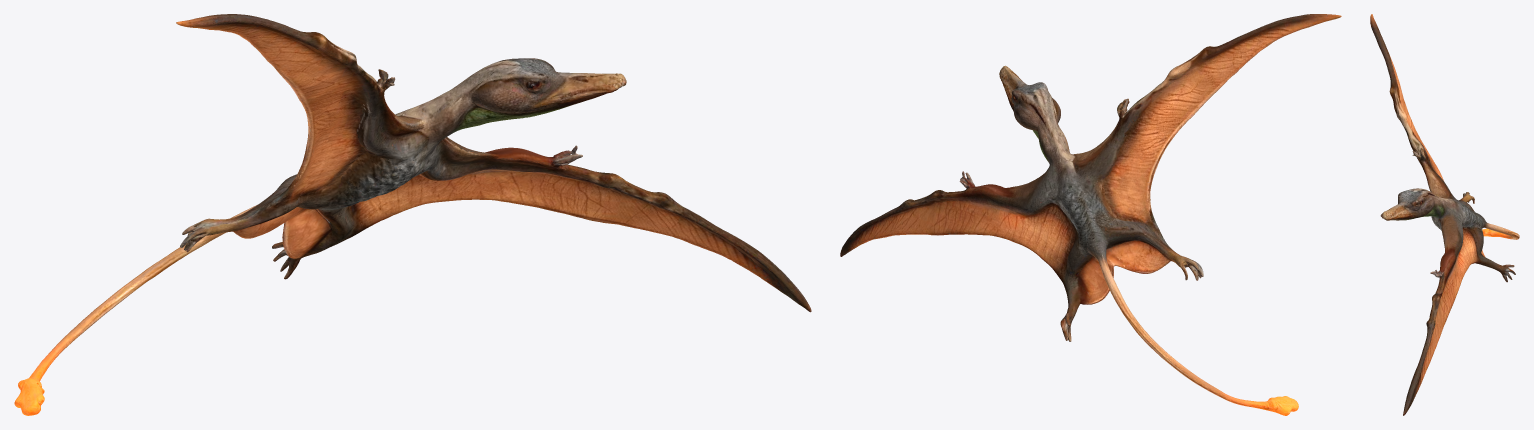
File: pterosaur.fbx
The picture shows the model from 3 angles, left to right: view 1: azimuth 30°, elevation 25°; view 2: azimuth 150°, elevation 25°; view 3: azimuth 270°, elevation 25°; orthographic projection. The views are drawn at different scales.
Visible parts, largest first — view 1: world; view 2: world; view 3: world.
Part boxes in pixels (bbox=[...]): world: bbox=[14, 14, 811, 415]; world: bbox=[840, 14, 1341, 415]; world: bbox=[1370, 14, 1519, 415].
Size of the model in its own units: 198 by 126 by 71.73.
1 material, 1 textured.
